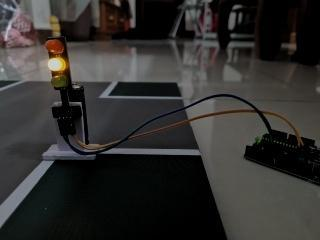yellow: (35, 27, 85, 99)
